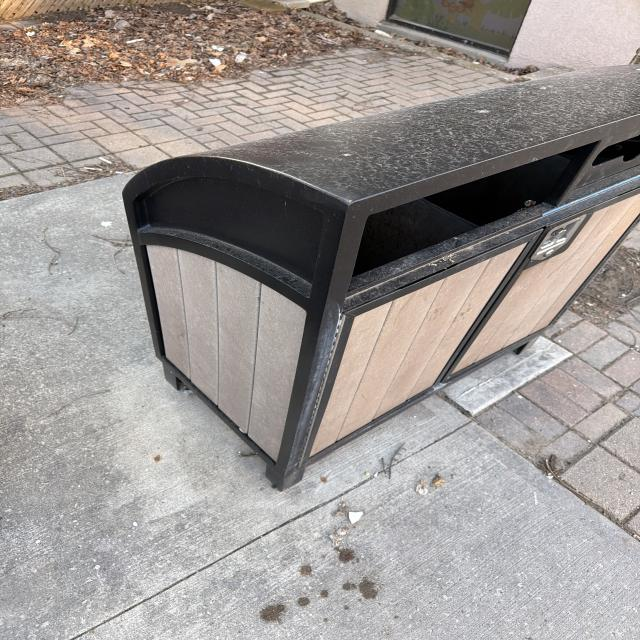Dustbin: (121, 66, 640, 491)
